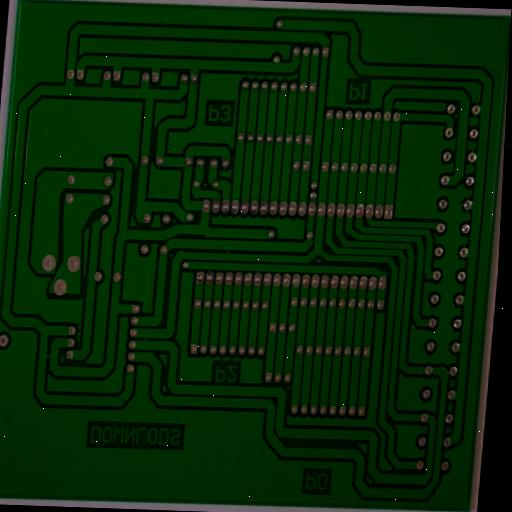short_circuit: (39, 342, 61, 368), (217, 240, 236, 262), (137, 328, 154, 350)
